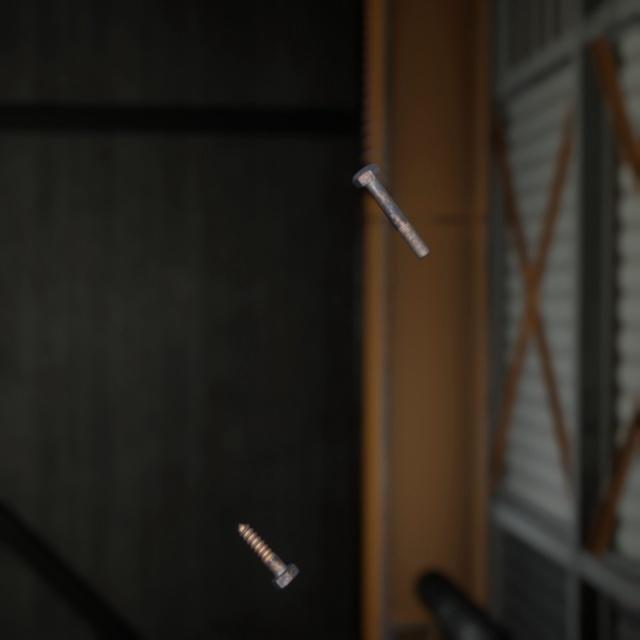bolt: (347, 144, 433, 249), (233, 496, 304, 571)
